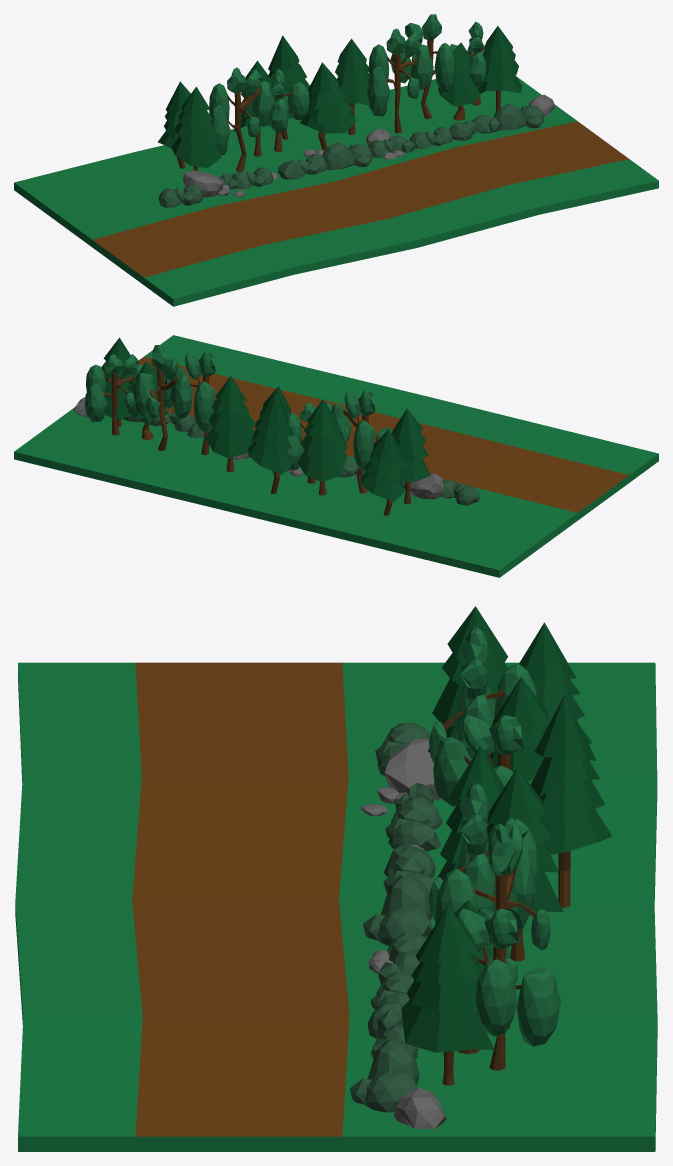
File: oyun.fbx
3 views of the same model, one above another, from view 1: azimuth 30°, elevation 25°; view 2: azimuth 150°, elevation 25°; view 3: azimuth 270°, elevation 25° (orthographic). The views are drawn at different scales.
Parts seen in each view (by area): view 1: zemn, zemn.001, ağaç.006, ağaç.009, ağaç.008, ağaç.005, ağaç.003, ağaç.012, ağaç.004, ağaç.011, ağaç.001, ağaç.007 (+12 smaller); view 2: zemn, zemn.001, ağaç.003, ağaç.010, ağaç.011, ağaç.007, ağaç.013, ağaç.009, ağaç.002, ağaç.006, ağaç.008, ağaç.012 (+5 smaller); view 3: zemn, zemn.001, ağaç.012, ağaç.007, ağaç.013, ağaç.003, ağaç.009, ağaç.004, ağaç.011, ağaç.006, Icosphere.016, Icosphere.005 (+12 smaller).
Boxes of the visible parts, box(x1,y1,x2,y2) form: zemn: box(14, 76, 658, 306); zemn.001: box(92, 121, 629, 277); ağaç.006: box(367, 28, 433, 133); ağaç.009: box(209, 67, 274, 171); ağaç.008: box(171, 87, 221, 170); ağaç.005: box(300, 62, 356, 150); ağaç.003: box(390, 14, 457, 118); ağaç.012: box(478, 26, 522, 112); ağaç.004: box(269, 68, 309, 151); ağaç.011: box(335, 38, 370, 134); ağaç.001: box(438, 42, 480, 120); ağaç.007: box(268, 35, 309, 139); zemn: box(14, 335, 658, 577); zemn.001: box(139, 356, 628, 512); ağaç.003: box(133, 345, 192, 450); ağaç.010: box(298, 399, 347, 495); ağaç.011: box(205, 376, 255, 472); ağaç.007: box(248, 390, 295, 493); ağaç.013: box(85, 354, 143, 435); ağaç.009: box(331, 389, 392, 493); ağaç.002: box(360, 428, 408, 515); ağaç.006: box(170, 351, 217, 455); ağaç.008: box(392, 408, 430, 503); ağaç.012: box(101, 337, 132, 427); zemn: box(15, 662, 657, 1151); zemn.001: box(132, 662, 349, 1136); ağaç.012: box(401, 906, 494, 1085); ağaç.007: box(530, 695, 612, 907); ağaç.013: box(458, 908, 560, 1070); ağaç.003: box(434, 818, 550, 1029); ağaç.009: box(429, 626, 537, 763); ağaç.004: box(433, 715, 533, 806); ağaç.011: box(486, 768, 563, 961); ağaç.006: box(429, 781, 539, 920); Icosphere.016: box(350, 1038, 419, 1112); Icosphere.005: box(363, 874, 432, 945).
Size of the model in its own units: 600 by 132 by 344.
